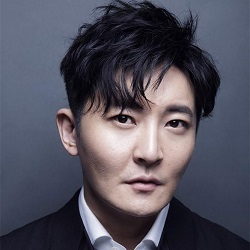unmask: (67, 50, 201, 218)
